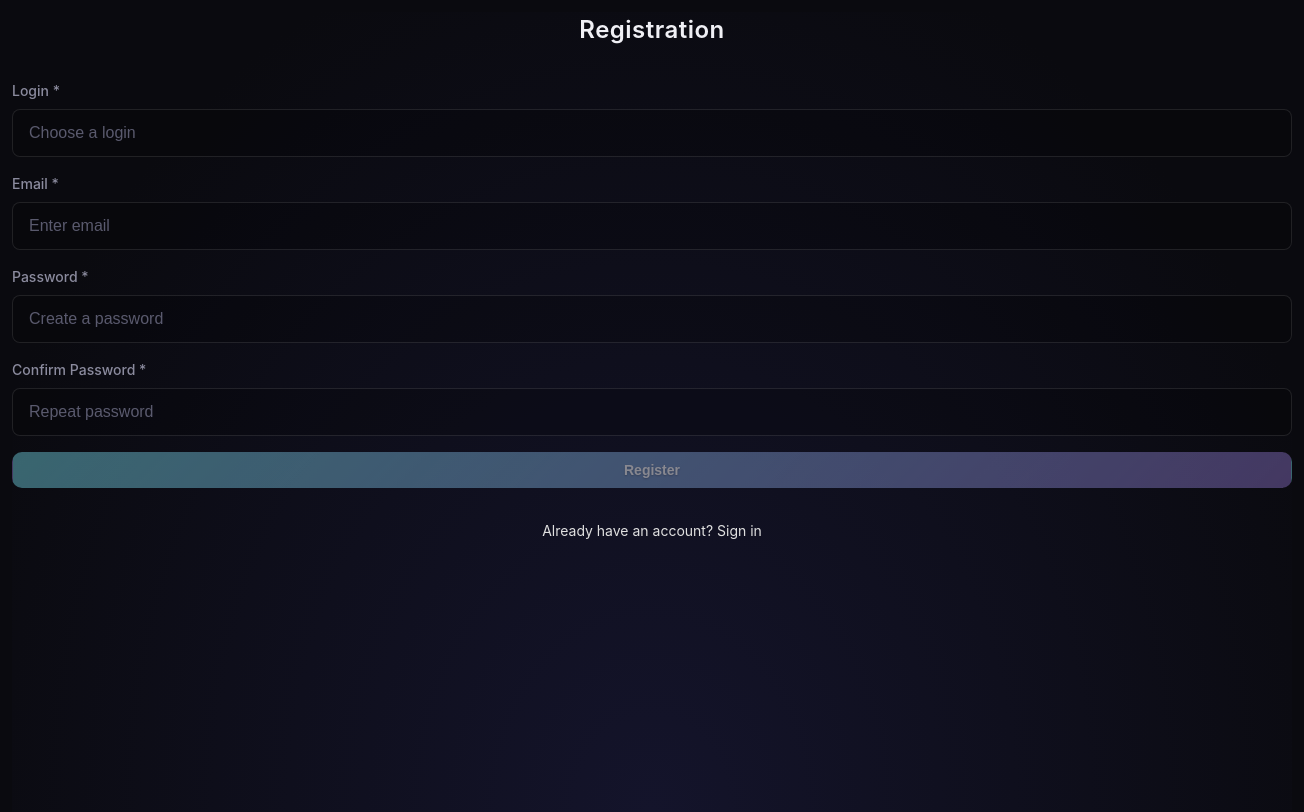
it: RegisterForm › shows error when passwords do not match
In the password field labelled "Password *": point(652, 319) [12,295,1292,343], type "Password123!"
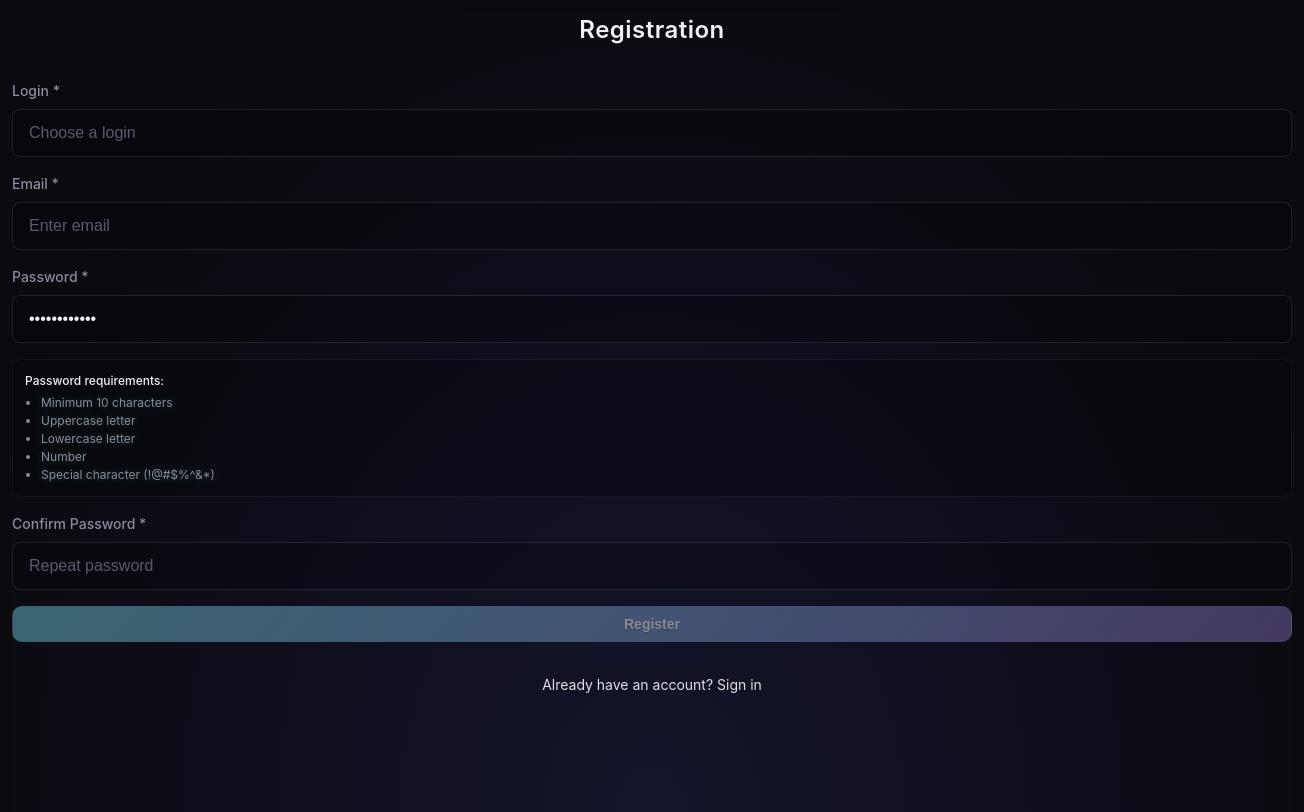
In the password field labelled "Confirm Password *": point(652, 566) [12,542,1292,590], type "Different123!"
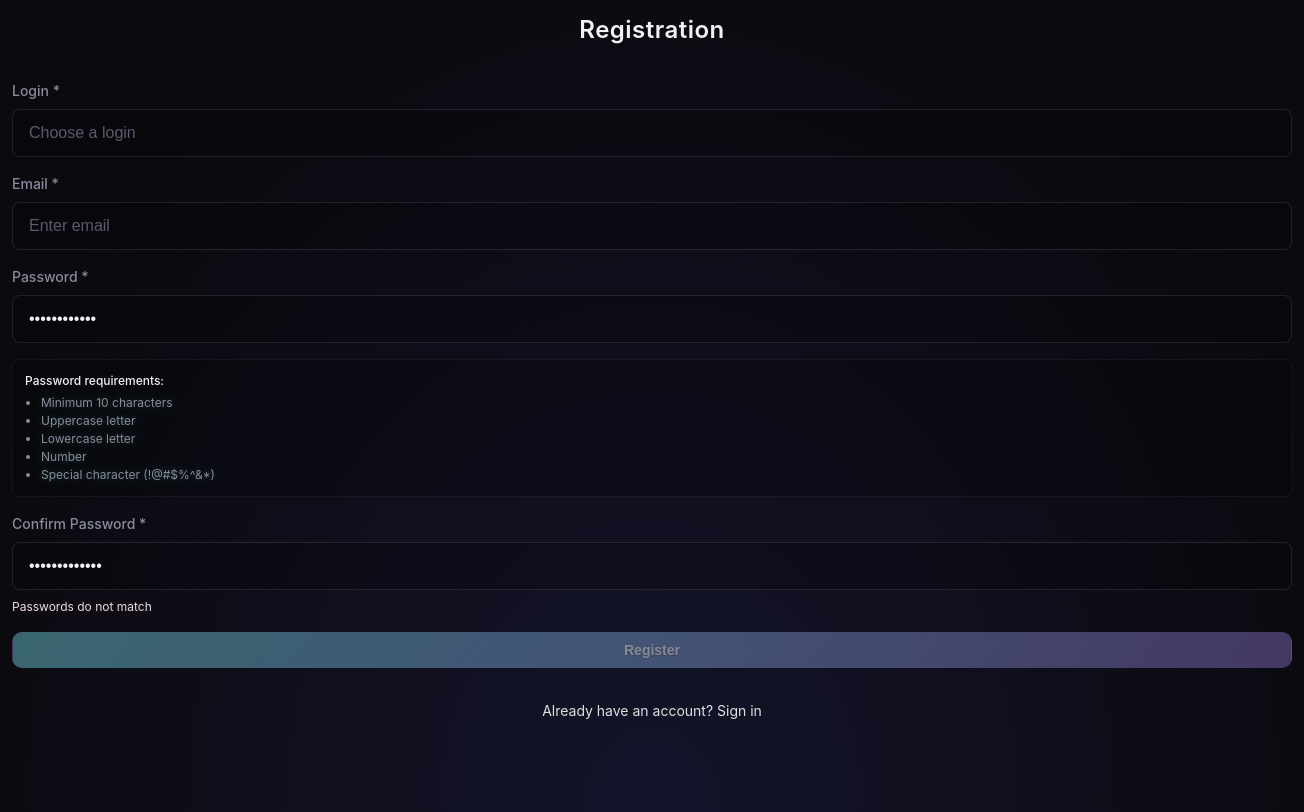
Expected: the text "Passwords do not match" is shown, [12,599,152,614]
